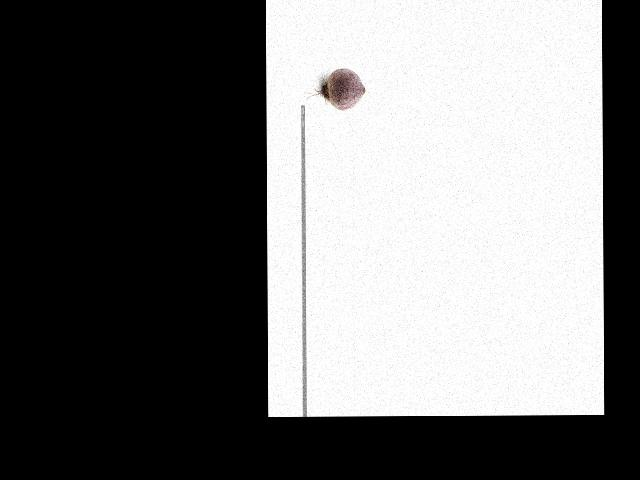beet: (303, 68, 366, 111)
